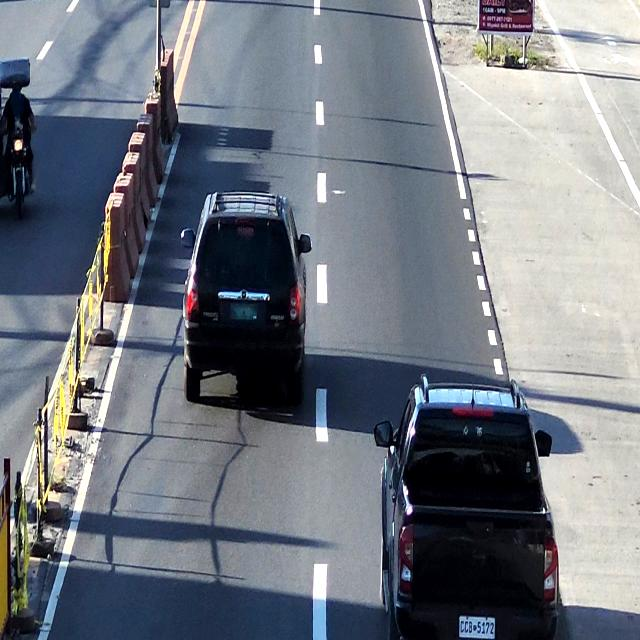Car: (383, 384, 554, 640), (184, 190, 306, 409)
License-Plate: (458, 615, 496, 640), (229, 301, 257, 320)
